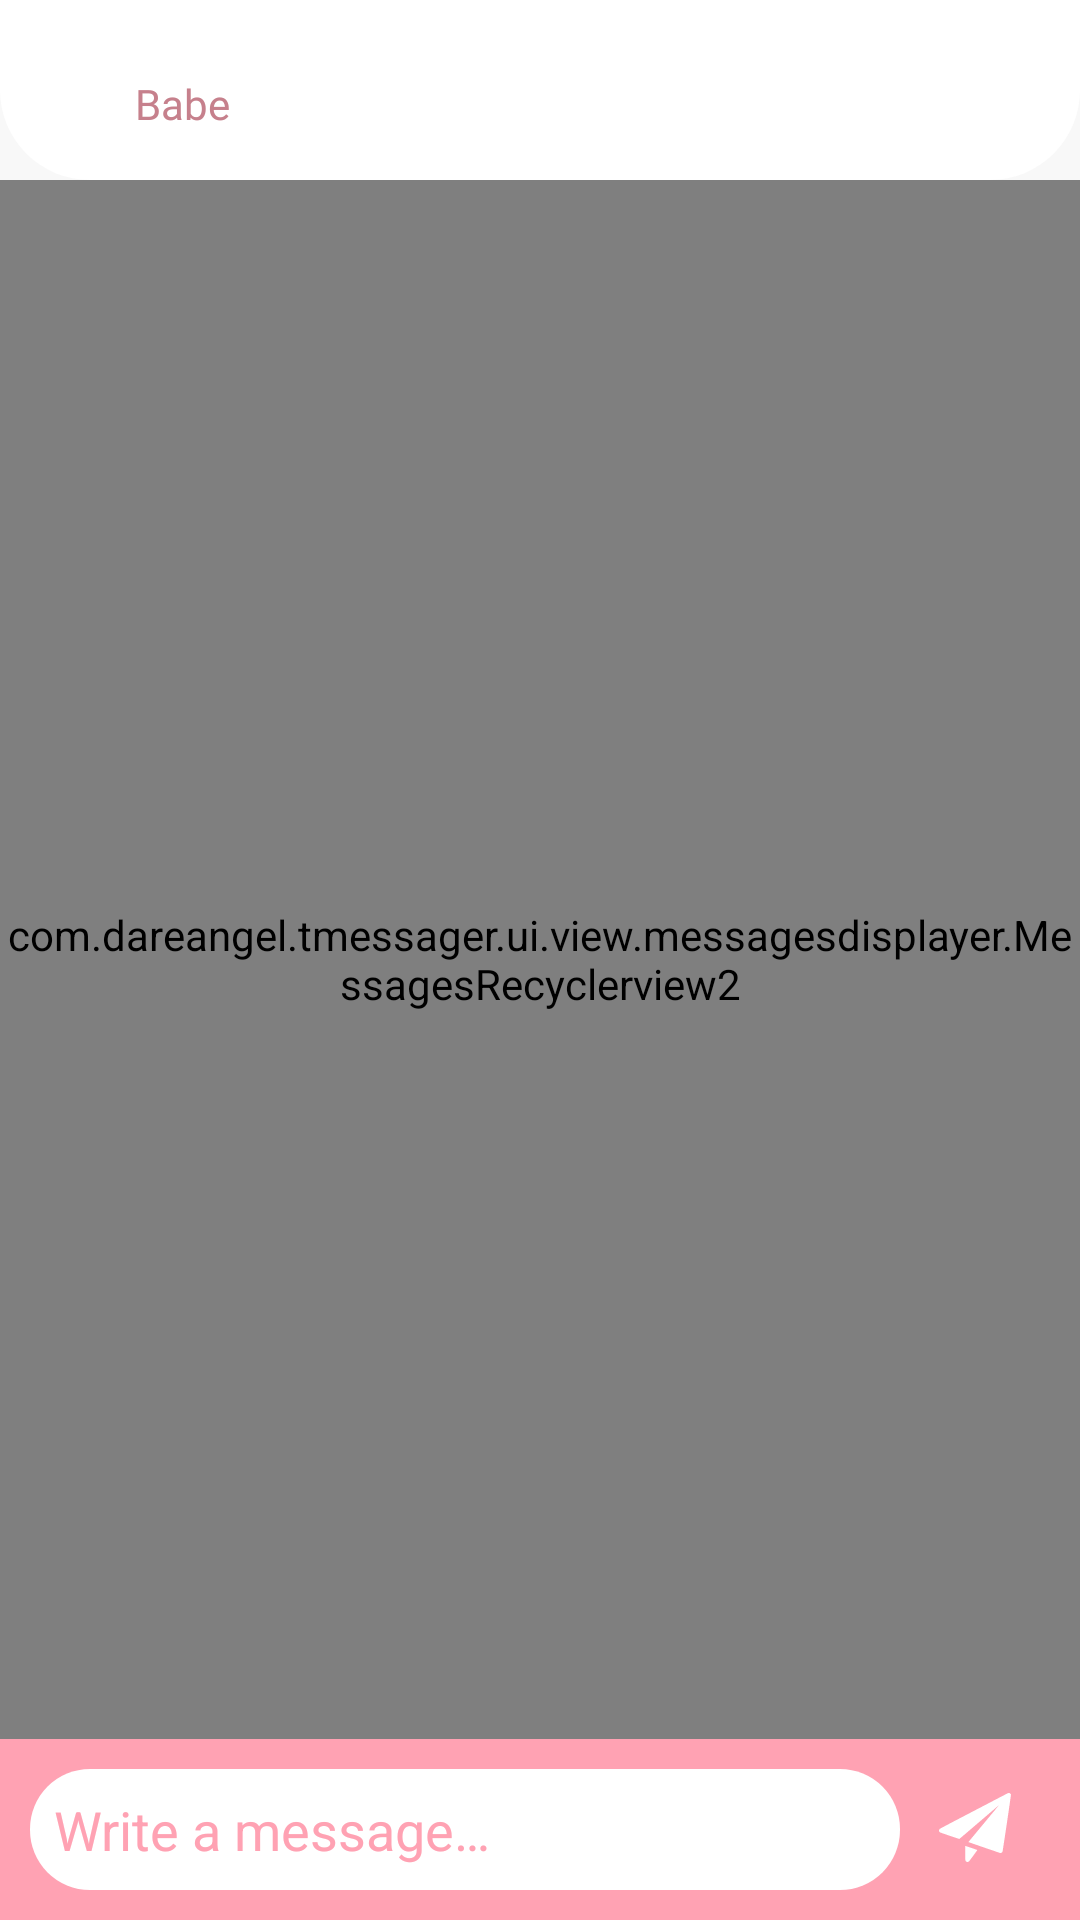

Where to tap for icons on this 1080 x 1920 app screen, as (x=x, y=y):
send: (x=975, y=1827)
